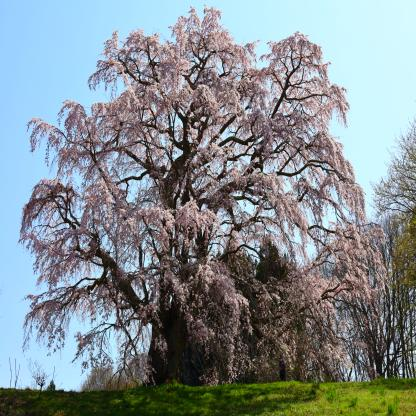EdohiganSakura: (18, 5, 388, 386)
